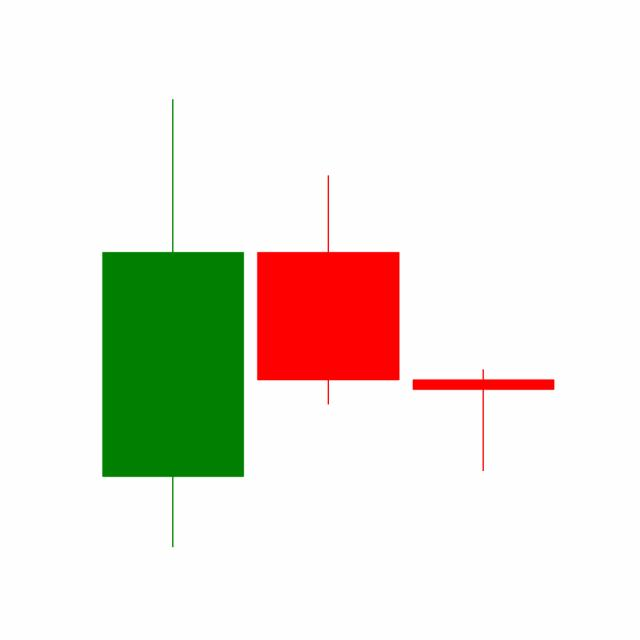Dragonfly Doji: (405, 368, 561, 472)
